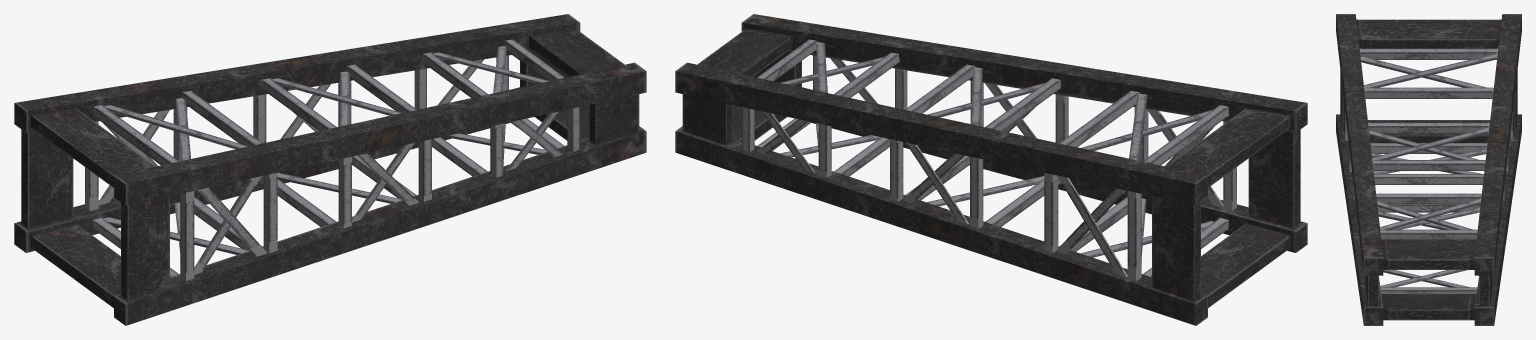
Rendered from beam_l_1.fbx.
3 views of the same model, side by side, from view 1: azimuth 30°, elevation 25°; view 2: azimuth 150°, elevation 25°; view 3: azimuth 270°, elevation 25° (orthographic). The views are drawn at different scales.
Visible parts, largest first — view 1: beam_l_1; view 2: beam_l_1; view 3: beam_l_1.
Part boxes in pixels (box(x1,y1,x2,y2)): beam_l_1: box(14, 14, 646, 325); beam_l_1: box(675, 14, 1307, 325); beam_l_1: box(1336, 14, 1521, 325).
Size of the model in its own units: 16.84 by 4.24 by 6.04.
